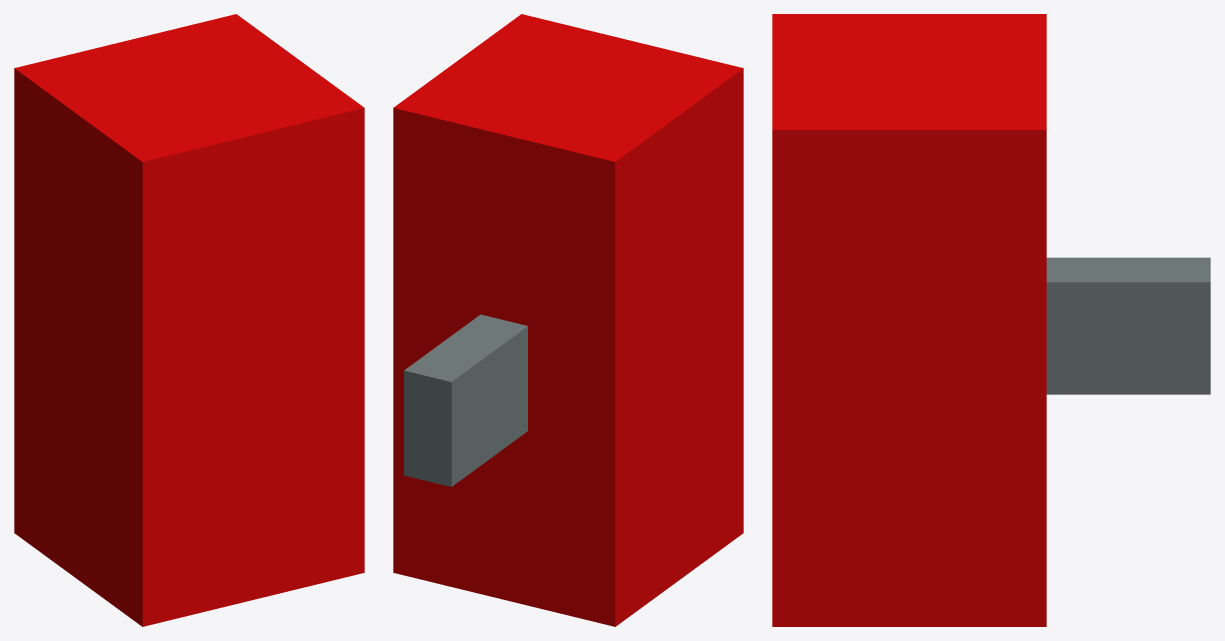
Rendered from player_Damage.fbx.
3 renders of one model, left to right at view 1: azimuth 30°, elevation 25°; view 2: azimuth 150°, elevation 25°; view 3: azimuth 270°, elevation 25°, orthographic. The views are drawn at different scales.
Visible parts, largest first — view 1: polySurface37; view 2: polySurface37; view 3: polySurface37.
Part boxes in pixels (left/top/right/bottom): polySurface37: left=14, top=14, right=364, bottom=626; polySurface37: left=393, top=14, right=743, bottom=626; polySurface37: left=772, top=14, right=1210, bottom=626.
Size of the model in its own units: 1 by 2 by 1.6.
